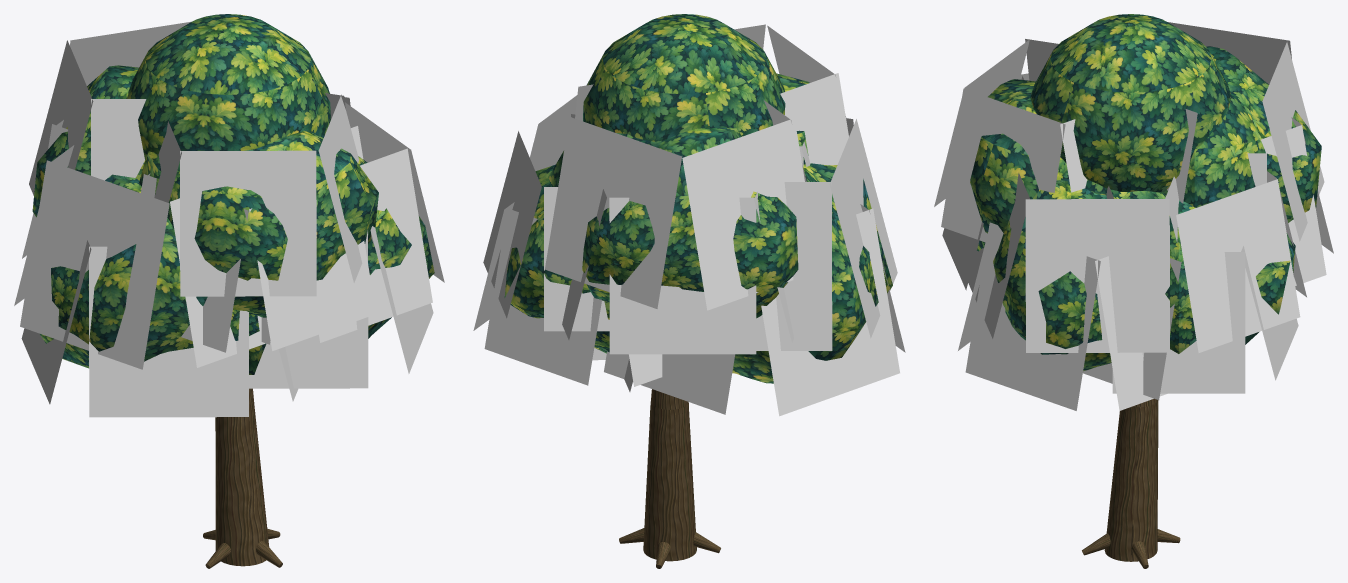
Rendered from NaturalTree_03.fbx.
3 views of the same model, side by side, from view 1: azimuth 30°, elevation 25°; view 2: azimuth 150°, elevation 25°; view 3: azimuth 270°, elevation 25° (orthographic). The views are drawn at different scales.
Parts seen in each view (by area): view 1: NaturalTree_03.001; view 2: NaturalTree_03.001; view 3: NaturalTree_03.001.
Boxes of the visible parts, bbox=[...] form: NaturalTree_03.001: bbox=[14, 14, 444, 568]; NaturalTree_03.001: bbox=[473, 14, 905, 568]; NaturalTree_03.001: bbox=[934, 14, 1333, 568].
Bounding box in the file's own units: 512 × 696 × 485.
3 materials, 2 textured.
